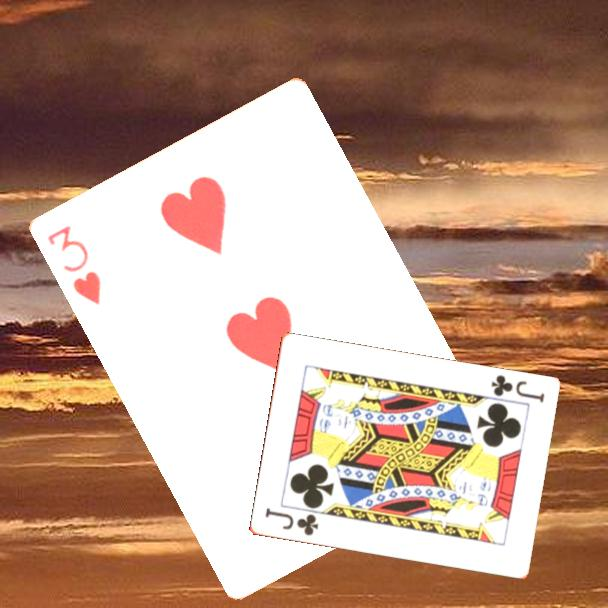c11: (261, 505, 321, 539), (487, 372, 547, 406)
h03: (43, 221, 103, 308)
